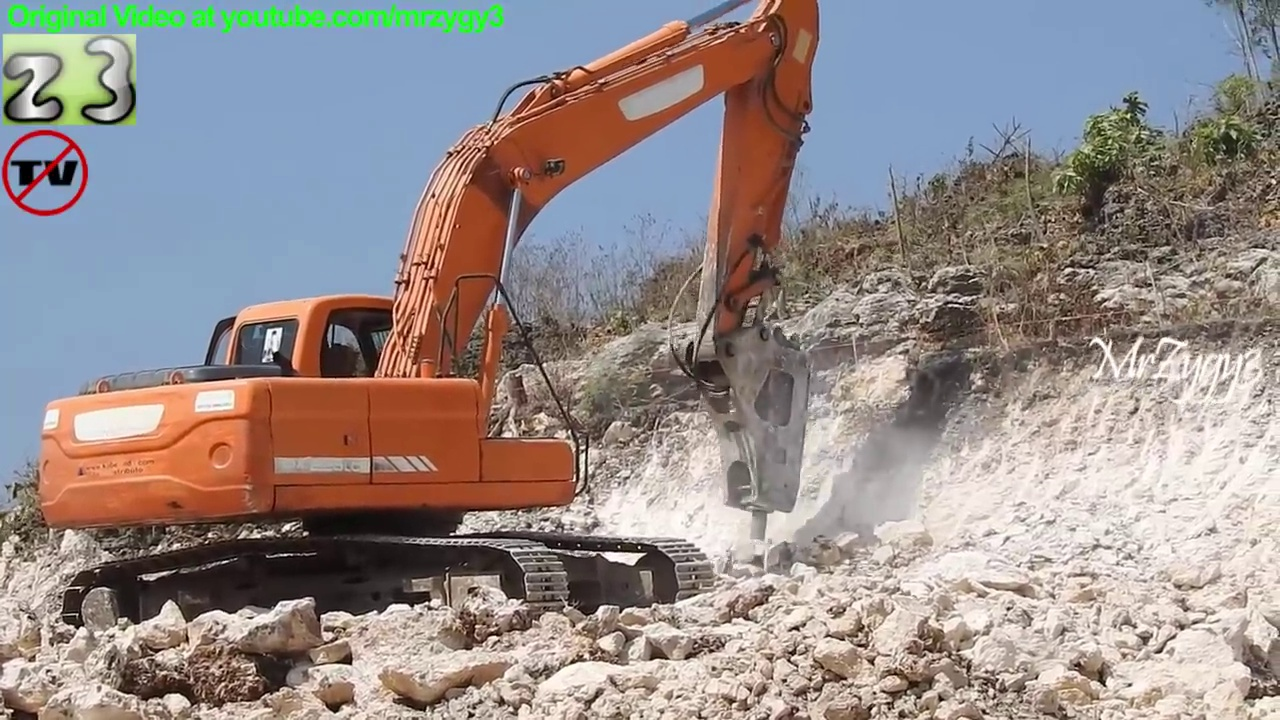excavator breaker: (33, 1, 836, 648)
